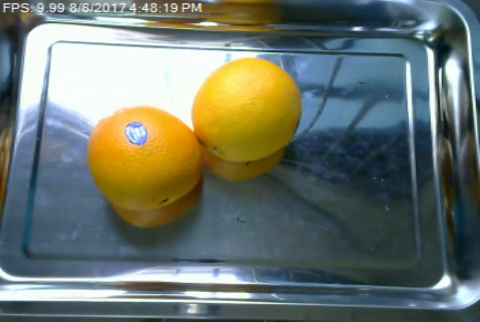Orange: (87, 104, 202, 209), (193, 58, 301, 163)
